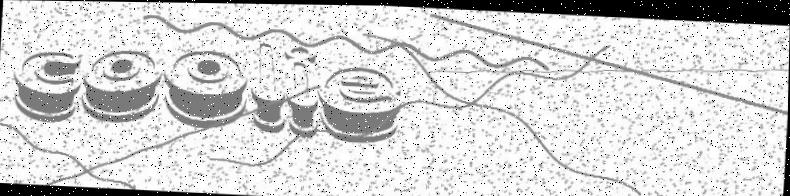c: (11, 48, 84, 124)
e: (316, 63, 403, 144)
i: (281, 44, 322, 138)
l: (250, 40, 290, 133)
o: (161, 47, 252, 130), (81, 46, 164, 125)
